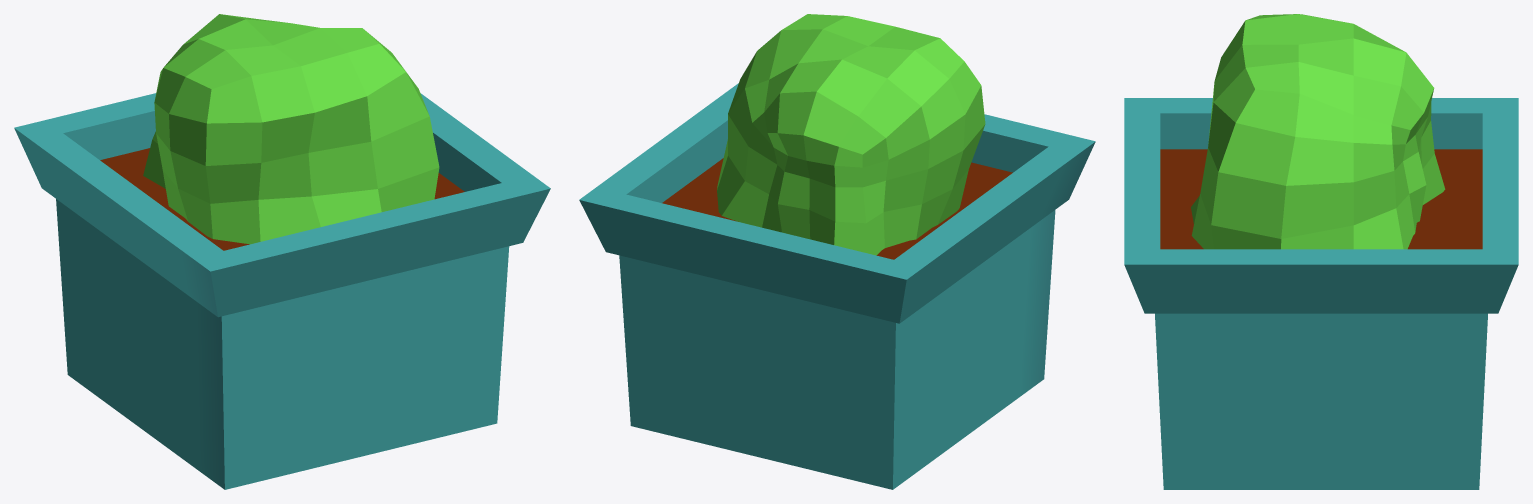
The model's file is Prop_Homeplant_09.fbx.
The picture shows the model from 3 angles, left to right: view 1: azimuth 30°, elevation 25°; view 2: azimuth 150°, elevation 25°; view 3: azimuth 270°, elevation 25°; orthographic projection. The views are drawn at different scales.
Parts seen in each view (by area): view 1: Prop_Homeplant_09; view 2: Prop_Homeplant_09; view 3: Prop_Homeplant_09.
Part boxes in pixels (<box>): Prop_Homeplant_09: <box>14,14,550,489</box>; Prop_Homeplant_09: <box>579,14,1095,489</box>; Prop_Homeplant_09: <box>1124,14,1518,489</box>.
Size of the model in its own units: 23.36 by 24.54 by 23.36.
